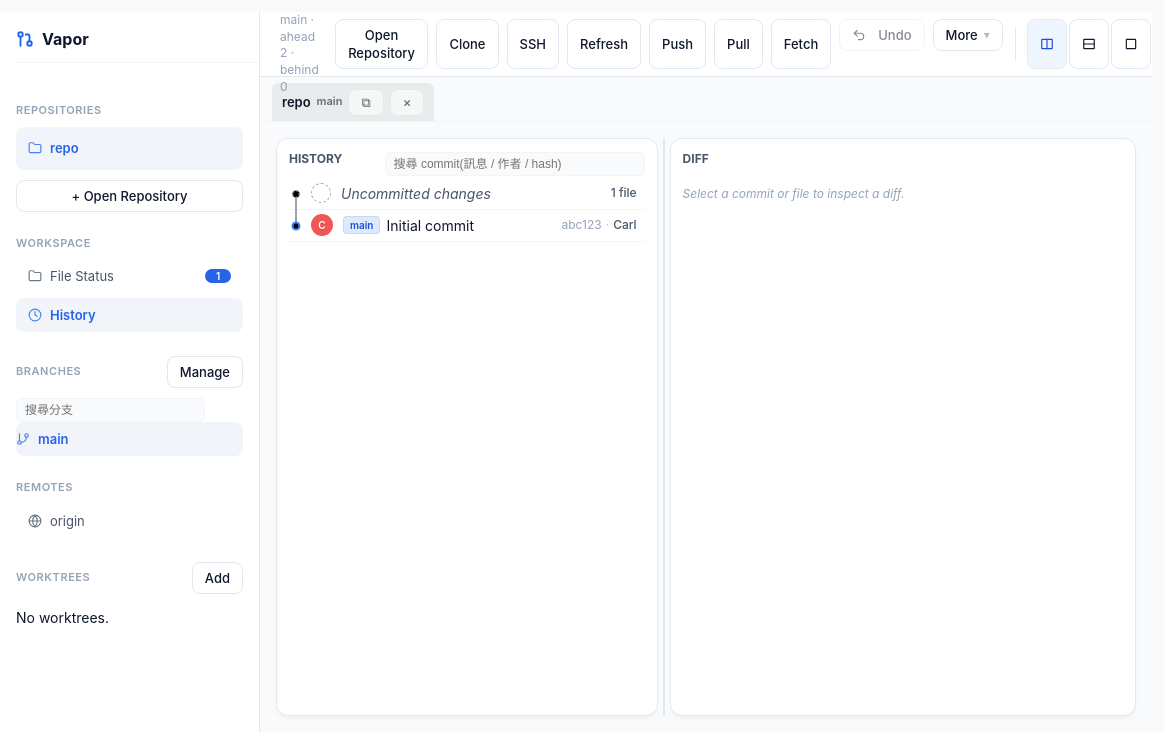
Scenario: App › renders repository state, commits, remotes, and working tree
The image size is (1164, 732).
Expected: the text "main" below "Branches" is shown, left=38, top=431, right=68, bottom=447
Expected: the text "origin" is shown, left=28, top=512, right=85, bottom=530
Click the button "File Status 1" at (82, 276), box left=28, top=268, right=231, bottom=284
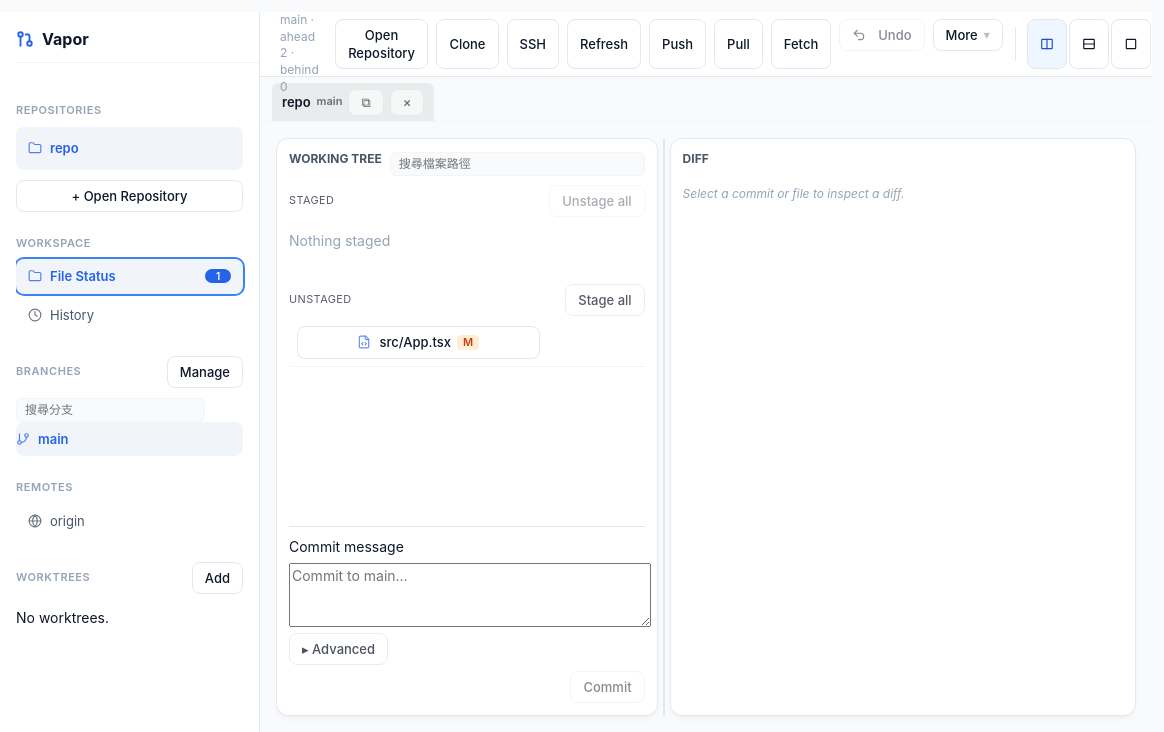
Result: the text "src/App.tsx" is shown at left=379, top=333, right=451, bottom=352
